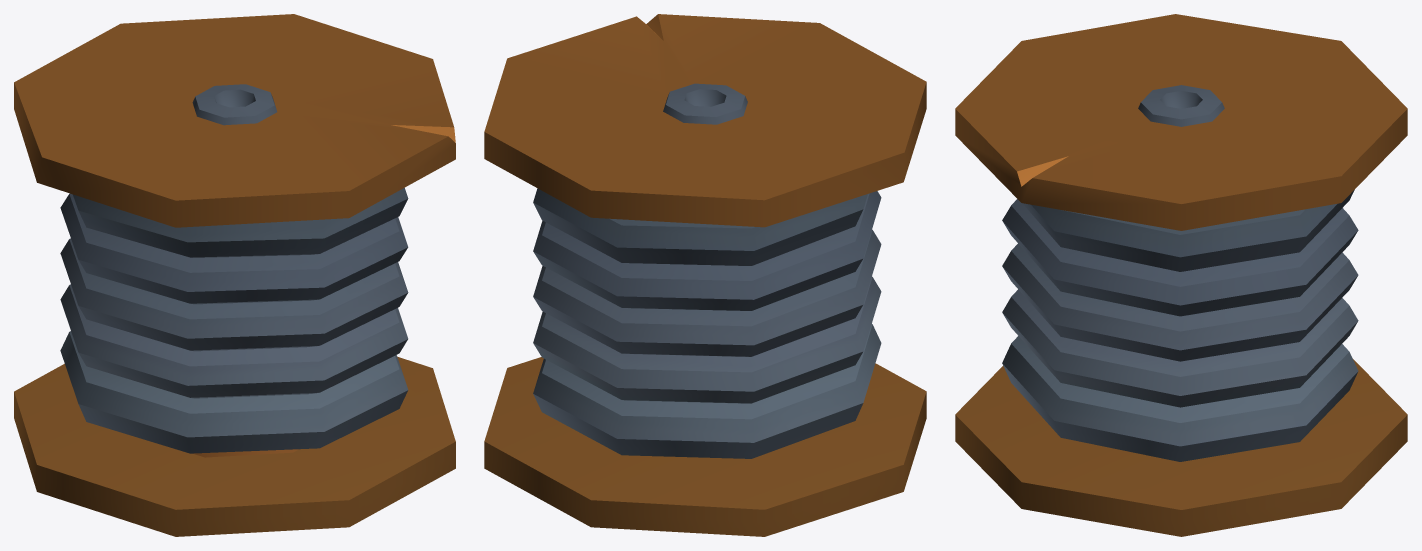
The model's file is Spool_2_1.fbx.
The picture shows the model from 3 angles, left to right: view 1: azimuth 30°, elevation 25°; view 2: azimuth 150°, elevation 25°; view 3: azimuth 270°, elevation 25°; orthographic projection.
Parts seen in each view (by area): view 1: Spool_2_1; view 2: Spool_2_1; view 3: Spool_2_1.
Boxes of the visible parts, x1,y1,x2,y2 form: Spool_2_1: (14, 14, 455, 536); Spool_2_1: (484, 14, 926, 536); Spool_2_1: (955, 14, 1407, 536).
Bounding box in the file's own units: 121 × 102 × 121.
